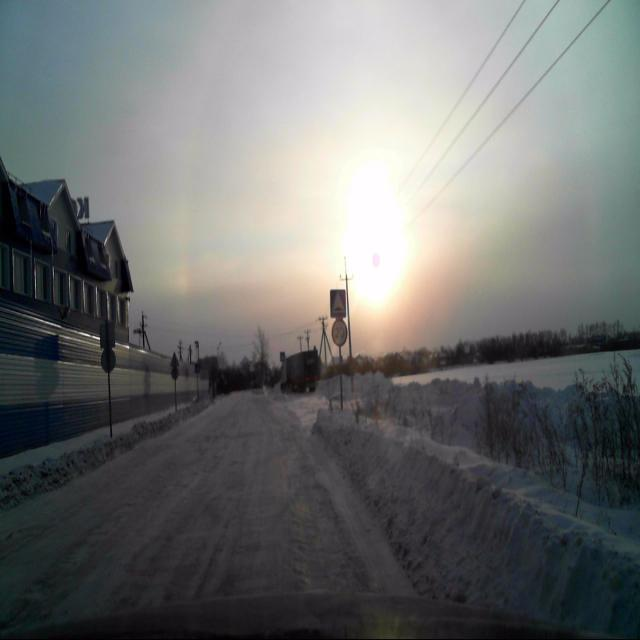road sign: (330, 289, 346, 317)
